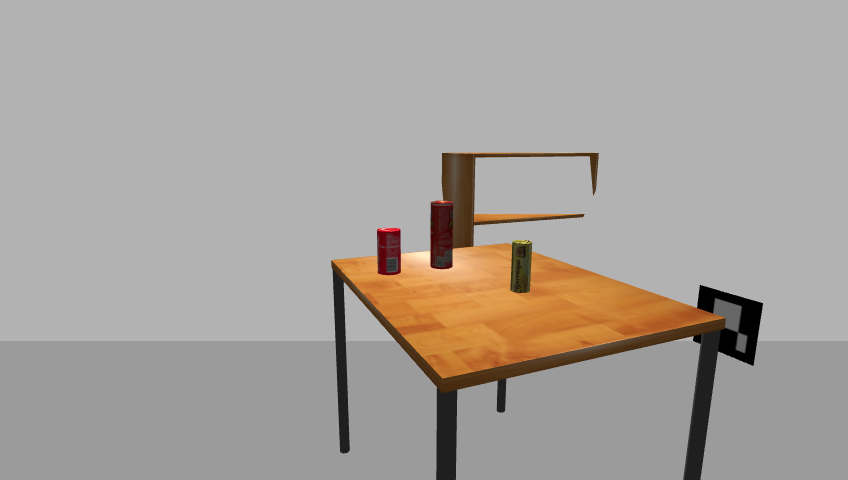aruco marker: (690, 285, 767, 367)
biscuits pack: (509, 240, 534, 294)
bookshelf: (436, 149, 606, 303)
coke can: (375, 227, 403, 276)
dinner table: (324, 243, 733, 480)
pringles can: (428, 200, 455, 271)
